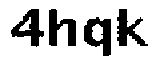4: (8, 5, 45, 56)
h: (47, 7, 79, 54)
k: (115, 6, 152, 53)
q: (82, 14, 116, 60)
